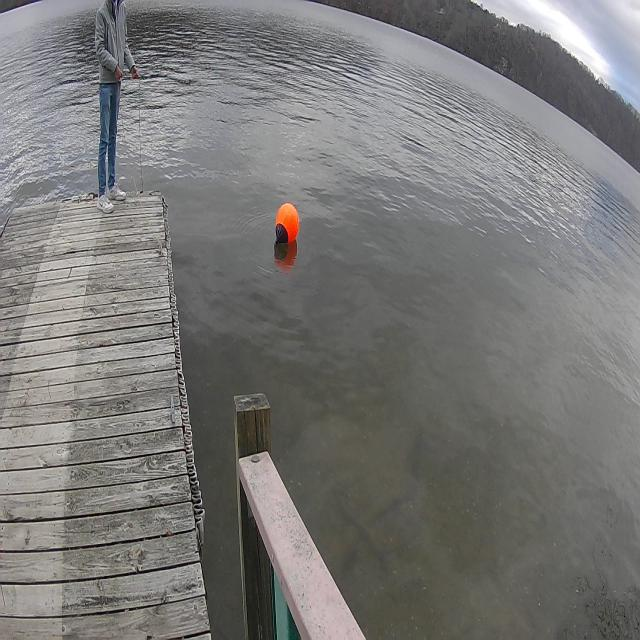Buoy: (274, 199, 302, 250)
